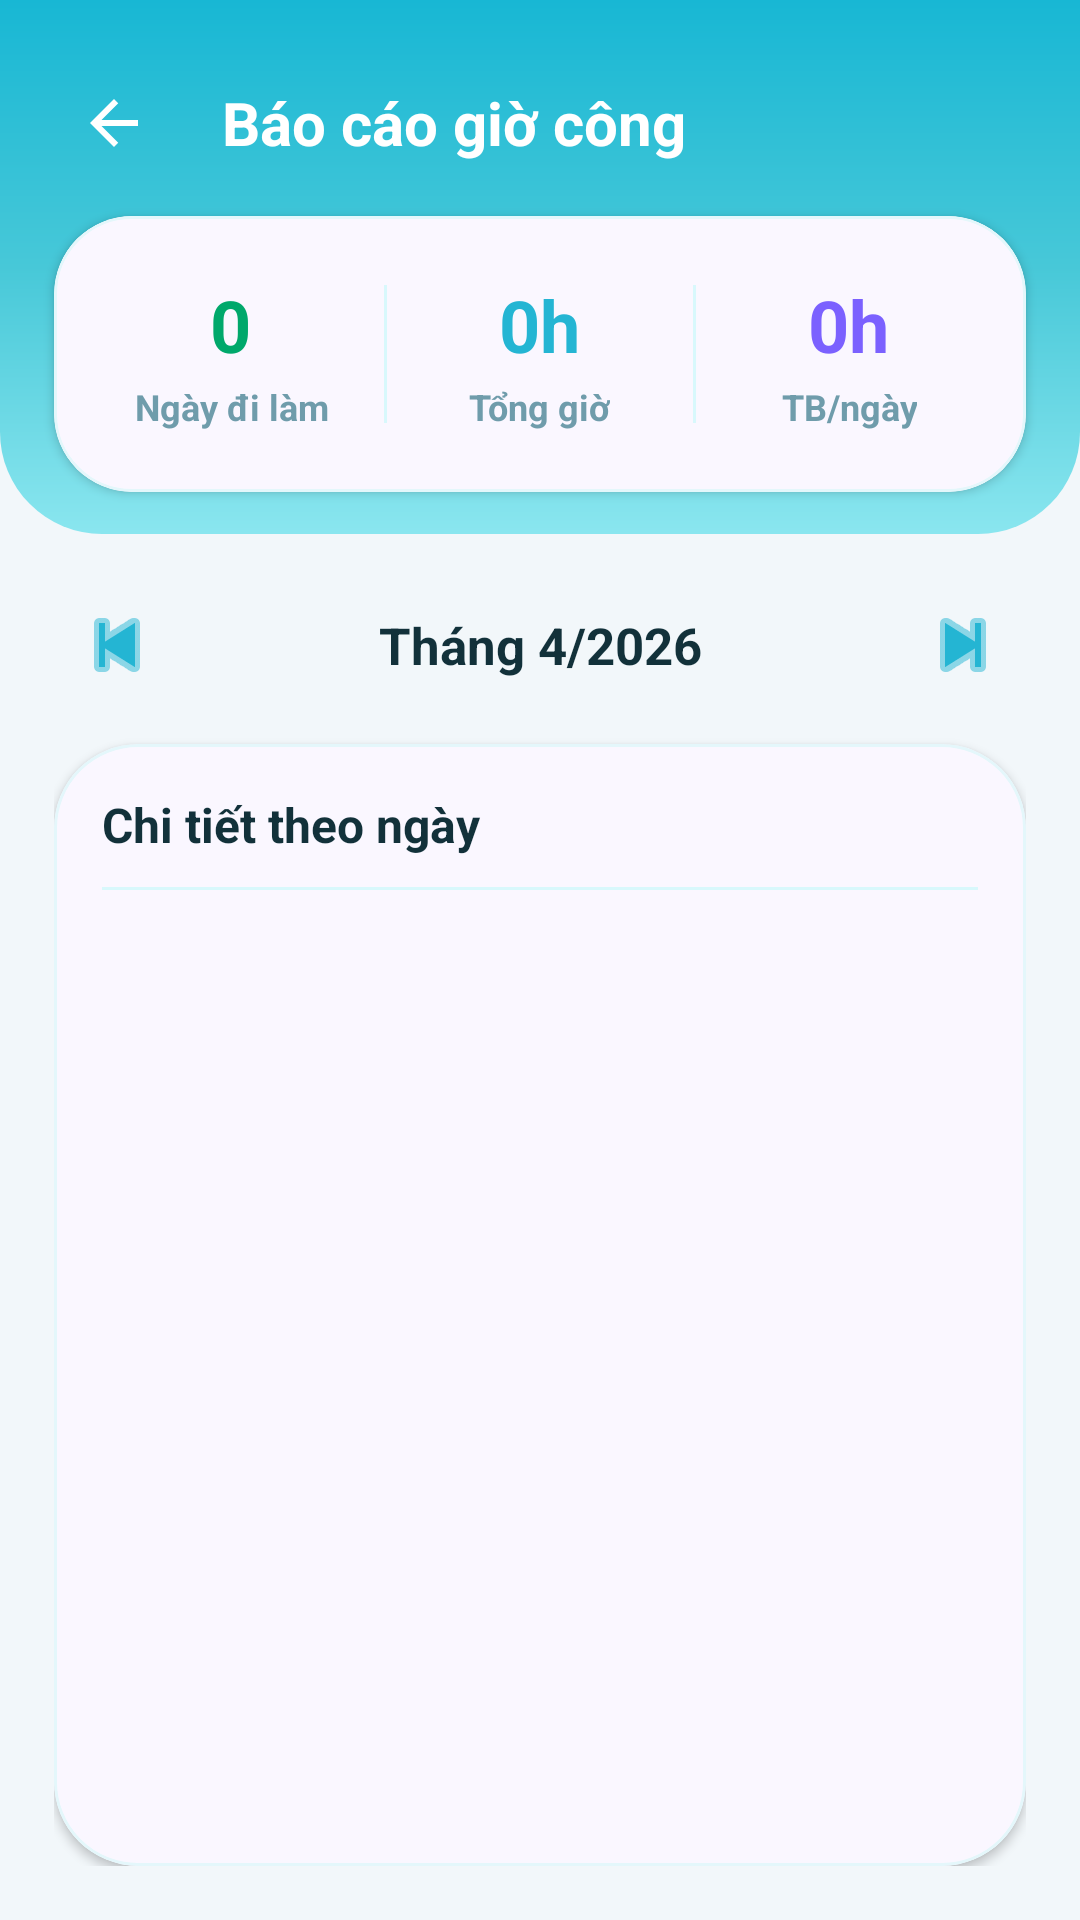

Icons on this 1080*1920 Android screen, each with its box as BBox(x1, y1, x2, y2):
next: BBox(940, 618, 986, 672)
previous: BBox(94, 618, 140, 672)
